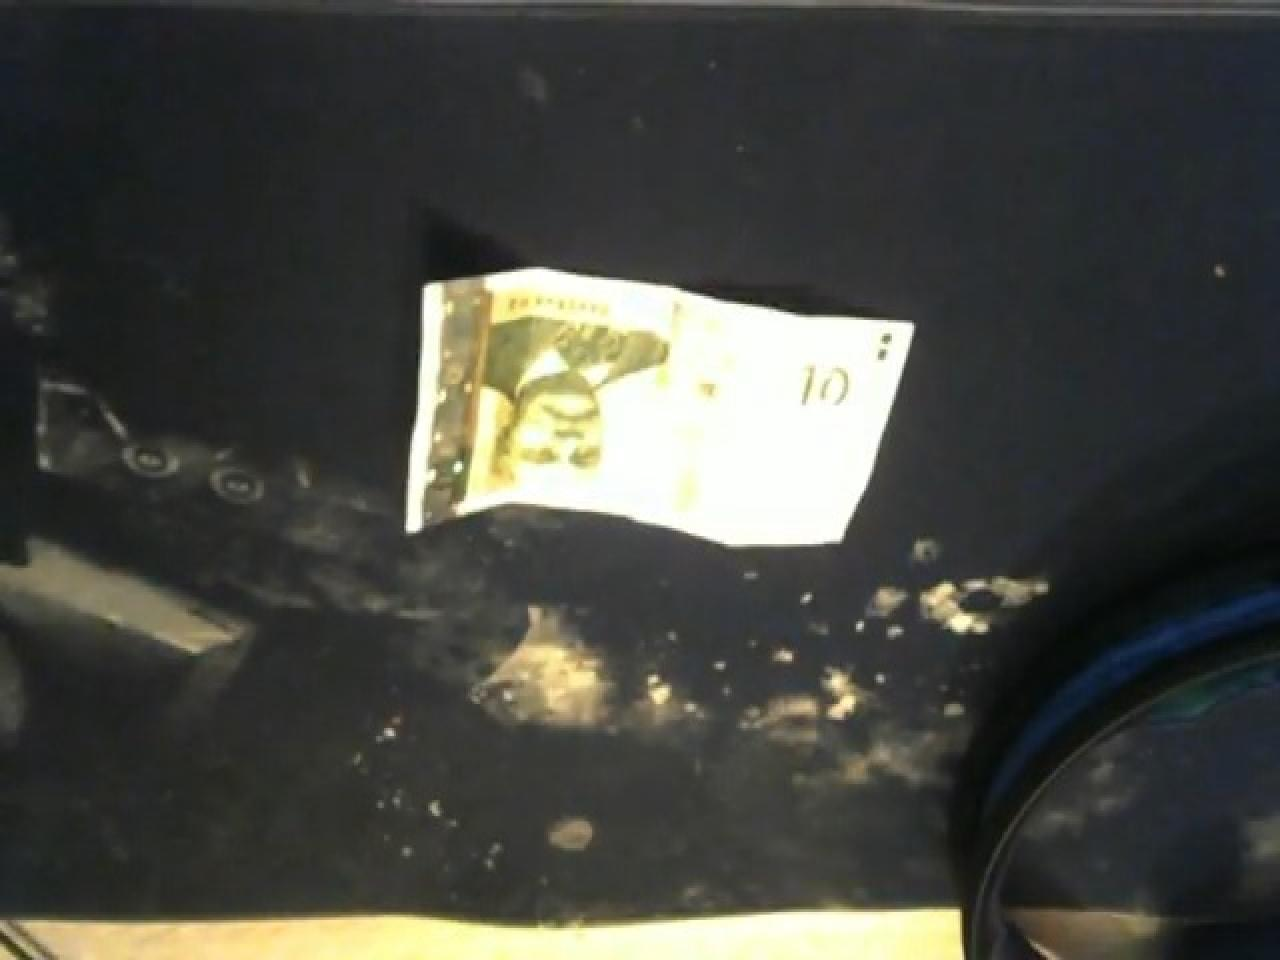10leva: (402, 261, 918, 547)
